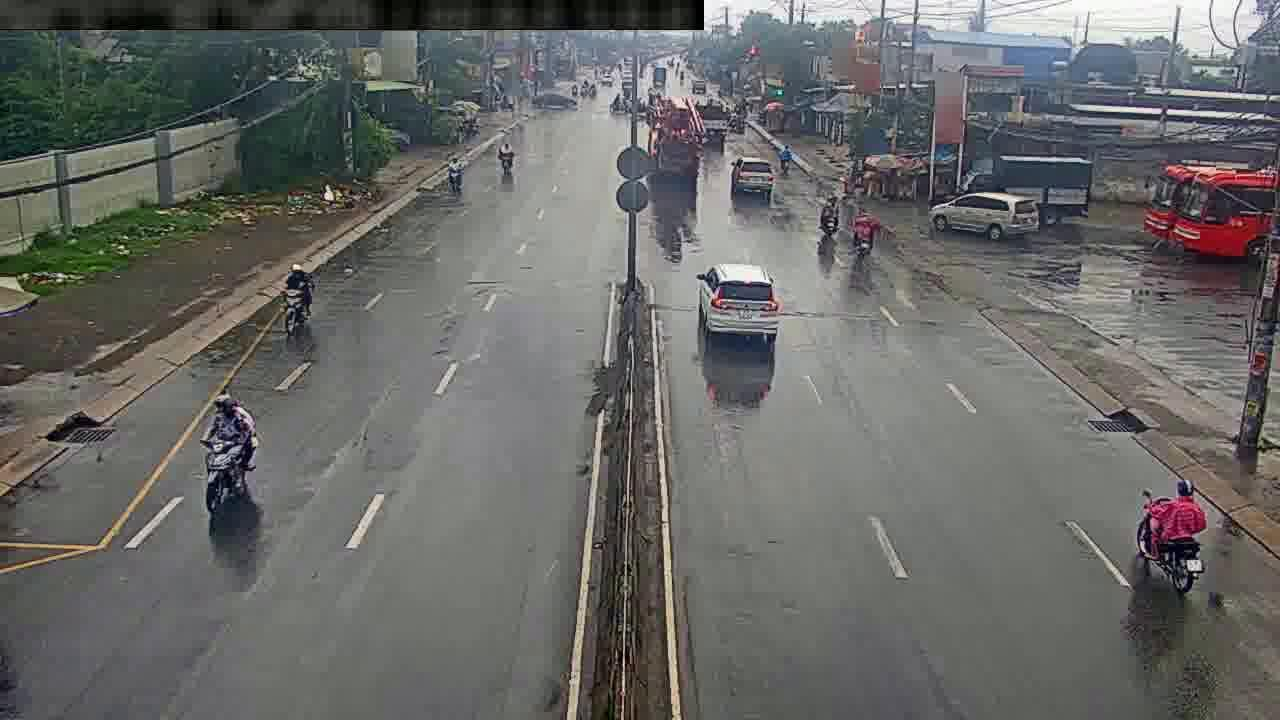8: (642, 94, 704, 177), (731, 148, 775, 198)
container: (704, 265, 776, 338), (731, 148, 775, 198)
motorbike: (1147, 469, 1204, 595), (209, 395, 257, 510), (280, 256, 313, 332), (856, 207, 876, 257), (444, 149, 463, 195), (819, 197, 836, 246), (498, 133, 514, 176), (780, 141, 793, 171)
